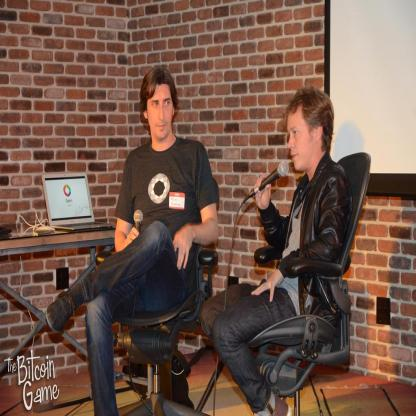board: (41, 172, 116, 231)
